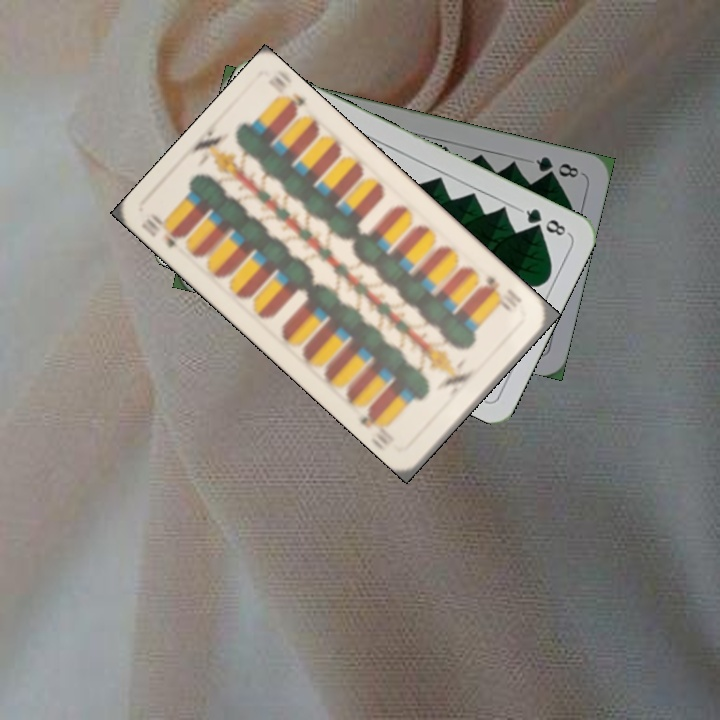E10: (137, 209, 187, 251), (477, 271, 525, 310)
G8: (516, 204, 571, 239), (531, 152, 582, 181)
